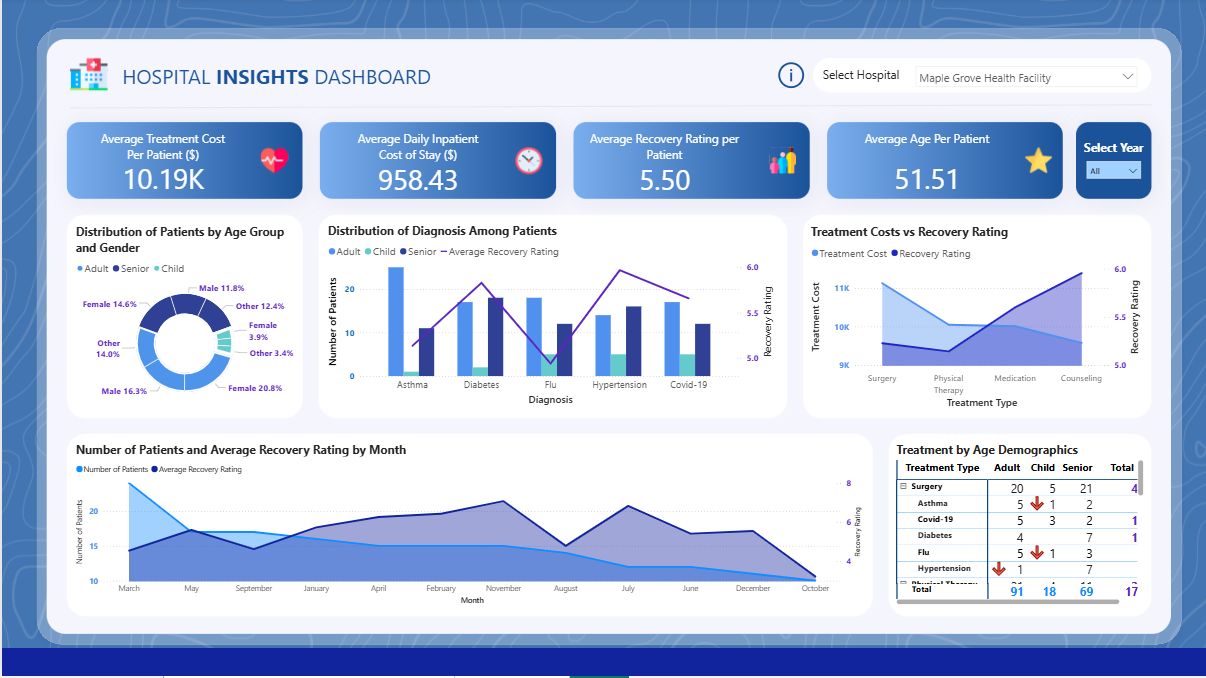

The page's visual inventory and layout, read from the dashboard file:
{"tool":"powerbi","page":{"name":"Hospital Insights Dashboard","canvas":[1920,1080],"ordinal":0},"visuals":[{"type":"textbox","box":[185.9,97.4,670,71.9],"z":0},{"type":"donutChart","title":"Distribution of Patients by Age Group and Gender","fields":{"Category":["Sheet1.AgeGroup"],"Y":["CountNonNull(Sheet1.Age)"],"Series":["Sheet1.Gender"]},"box":[111.7,360,357.9,298.3],"z":2000},{"type":"lineClusteredColumnComboChart","title":"Distribution of Diagnosis Among Patients","fields":{"Category":["Sheet1.Diagnosis"],"Y":["CountNonNull(Sheet1.PatientID)"],"Y2":["Avg(Sheet1 (2).RecoveryRating)"],"Series":["Sheet1.AgeGroup"]},"box":[513.3,358.3,721.7,297],"z":3000},{"type":"areaChart","title":"Treatment Costs vs Recovery Rating","fields":{"Category":["Sheet1 (2).TreatmentType"],"Y":["Avg(Sheet1.TotalBill)"],"Y2":["Avg(Sheet1 (2).RecoveryRating)"]},"box":[1281.7,360,538.3,298.3],"z":4000},{"type":"pivotTable","title":"Treatment by Age Demographics","fields":{"Rows":["Sheet1 (2).TreatmentType","Sheet1.Diagnosis"],"Columns":["Sheet1.AgeGroup"],"Values":["CountNonNull(Sheet1.PatientID)"]},"box":[1418.3,706.7,403.3,265],"z":5000},{"type":"lineChart","fields":{"Y":["CountNonNull(Sheet1.PatientID)"],"Category":["Sheet1.Month"],"Y2":["Avg(Sheet1 (2).RecoveryRating)"]},"box":[111.7,706.7,1260,265],"z":6000},{"type":"card","title":"Average Treatment Cost Per Patient ($)","fields":{"Values":["Avg(Sheet1.TotalBill)"]},"box":[139.4,211.3,235.3,101.9],"z":7000},{"type":"card","title":"Average Daily Inpatient Cost of Stay ($)","fields":{"Values":["Avg(Sheet1 (2).DailyCost)"]},"box":[545.6,211.3,230.8,101.9],"z":8000},{"type":"card","title":"Average Recovery Rating per Patient","fields":{"Values":["Avg(Sheet1 (2).RecoveryRating)"]},"box":[923.3,211.3,260.8,101.9],"z":9000},{"type":"card","title":"Average Age Per Patient","fields":{"Values":["Avg(Sheet1.Age)"]},"box":[1353.4,211.3,236.8,125.9],"z":10000},{"type":"slicer","title":"Select Hospital","fields":{"Values":["Sheet1 (2).Hospital"]},"box":[1443.4,100.4,371.7,46.5],"z":11000},{"type":"slicer","title":"Select Year","fields":{"Values":["Sheet1.Year"]},"box":[1714.3,226,106,71.7],"z":12000},{"type":"textbox","box":[1301,104.9,142.4,39],"z":13000},{"type":"actionButton","box":[1227.8,97.4,54,53.1],"z":14000},{"type":"card","fields":{"Values":["Sum(Sheet1.Age)"]},"box":[1227.8,101.8,54,46],"z":15000},{"type":"shape","box":[0,1034.8,1920,45.2],"z":16000},{"type":"textbox","box":[49.9,1041,297.6,37.4],"z":18000}]}

Visuals, with their boxes in screenshot pixels (x1, y1, x2, y2), scaled from the page's 1920x1080 canvas onto the 1206x678 screenshot:
textbox: 117 61 538 106
"Distribution of Patients by Age Group and Gender" donutChart: 70 226 295 413
"Distribution of Diagnosis Among Patients" lineClusteredColumnComboChart: 322 225 776 411
"Treatment Costs vs Recovery Rating" areaChart: 805 226 1143 413
"Treatment by Age Demographics" pivotTable: 891 444 1144 610
lineChart - CountNonNull(Sheet1.PatientID) x Sheet1.Month: 70 444 862 610
"Average Treatment Cost Per Patient ($)" card: 88 133 235 197
"Average Daily Inpatient Cost of Stay ($)" card: 343 133 488 197
"Average Recovery Rating per Patient" card: 580 133 744 197
"Average Age Per Patient" card: 850 133 999 212
"Select Hospital" slicer: 907 63 1140 92
"Select Year" slicer: 1077 142 1143 187
textbox: 817 66 907 90
actionButton: 771 61 805 94
card - Sum(Sheet1.Age): 771 64 805 93
shape: 0 650 1205 677
textbox: 31 654 218 677
